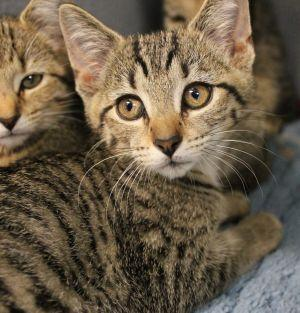bengal: (52, 1, 265, 189)
